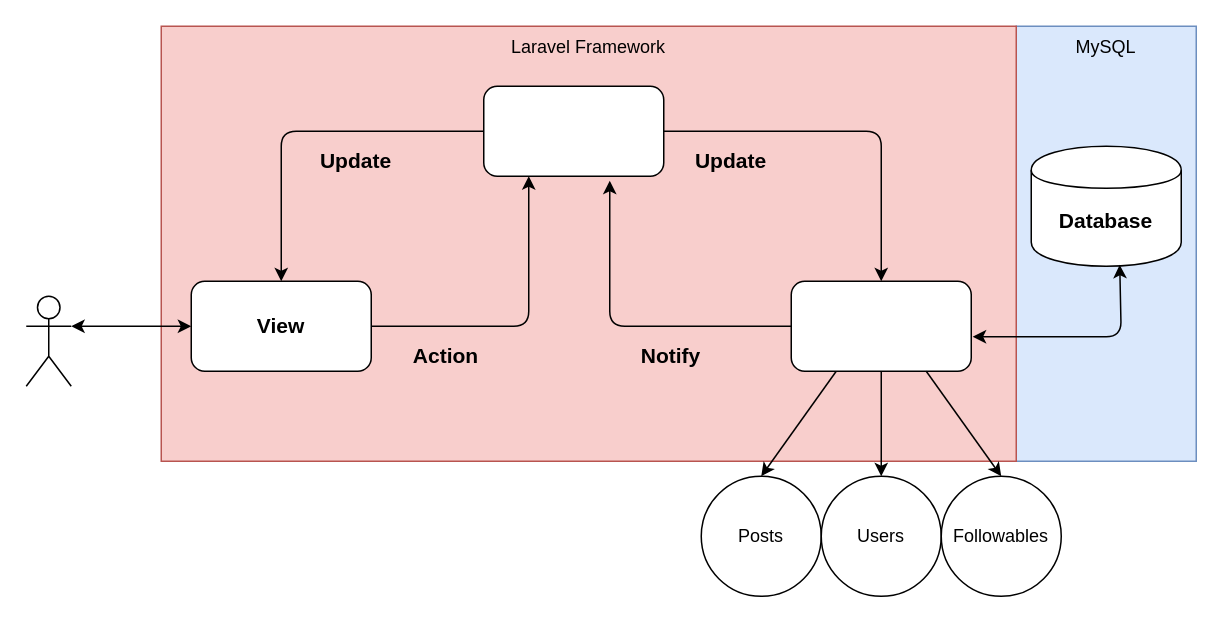
Image size: 1223x623. Some labels were removed from this diagram. Each missing label, with the centre of its shape:
"Actor" goes at [48,340].
"Controller" goes at [573,130].
"Model" goes at [880,325].
